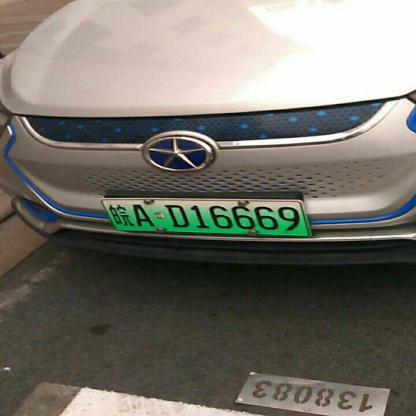lp: (101, 198, 309, 236)
